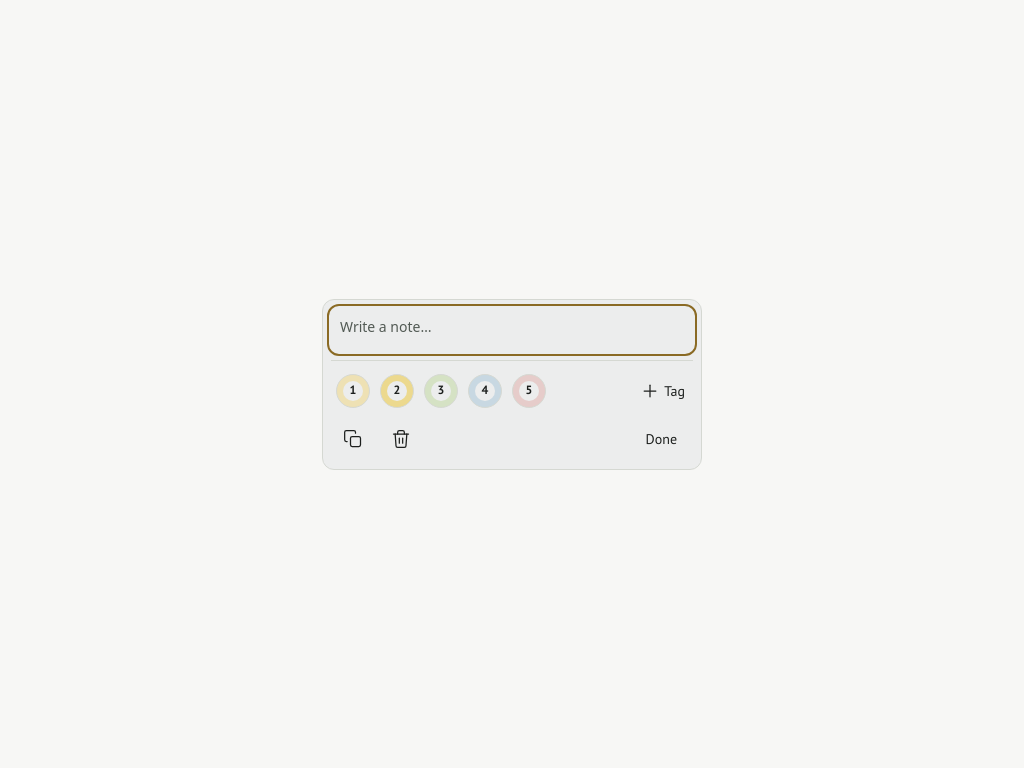
Scenario: NotePopover — guarded dismissal (issue #177) › a failed Done keeps the editor + draft with the failure line + Retry
Type "a draft that must survive" into the text box labelled "note" at {"x": 512, "y": 330}, box left=331, top=308, right=693, bottom=352
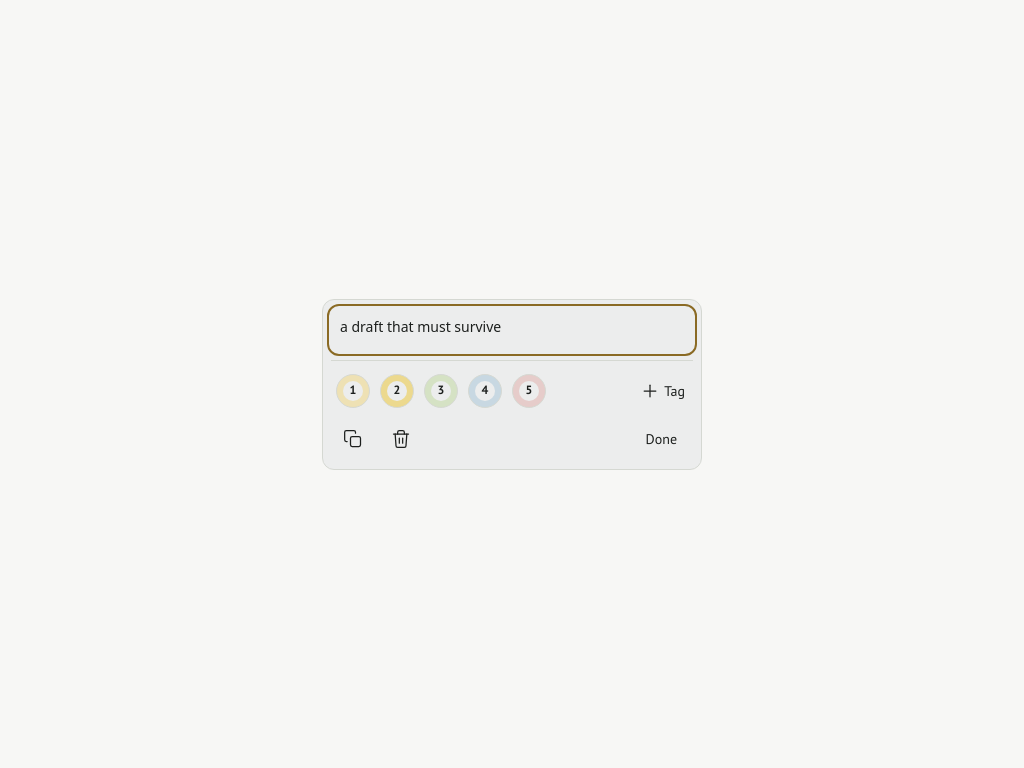
Click the button "Done" at {"x": 661, "y": 438}, box left=630, top=416, right=693, bottom=460
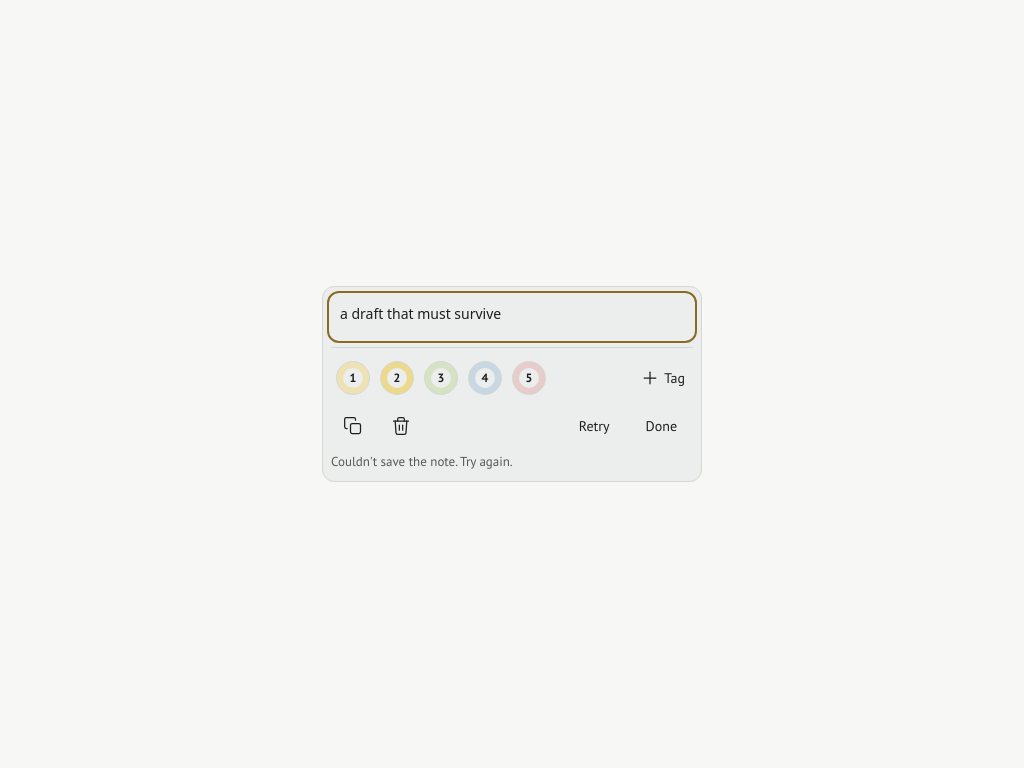
Result: the text "Couldn't save the note. Try again." is shown at left=331, top=453, right=513, bottom=470
Result: the button "Retry" is shown at left=563, top=404, right=626, bottom=448
